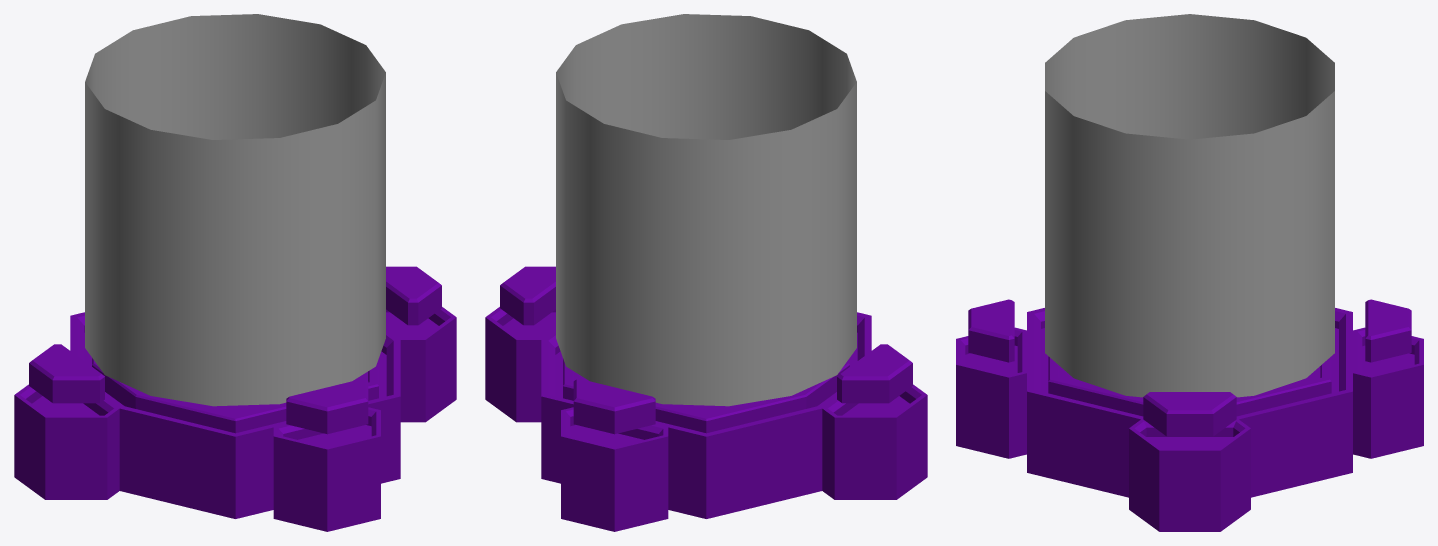
Rendered from JumpPad3.fbx.
3 renders of one model, left to right at view 1: azimuth 30°, elevation 25°; view 2: azimuth 150°, elevation 25°; view 3: azimuth 270°, elevation 25°, orthographic.
Parts seen in each view (by area): view 1: JumpPadAura1, Shell1, Inner_Small_Panels1; view 2: JumpPadAura1, Shell1, Inner_Small_Panels1; view 3: JumpPadAura1, Shell1, Inner_Small_Panels1.
Part boxes in pixels (left/top/right/bottom): JumpPadAura1: left=85, top=14, right=385, bottom=406; Shell1: left=14, top=307, right=456, bottom=531; Inner_Small_Panels1: left=29, top=266, right=441, bottom=434; JumpPadAura1: left=556, top=14, right=856, bottom=406; Shell1: left=485, top=307, right=927, bottom=531; Inner_Small_Panels1: left=500, top=266, right=912, bottom=434; JumpPadAura1: left=1045, top=14, right=1334, bottom=397; Shell1: left=956, top=308, right=1423, bottom=531; Inner_Small_Panels1: left=968, top=299, right=1411, bottom=436.
Bounding box in the file's own units: 3284 × 2759 × 3284.
